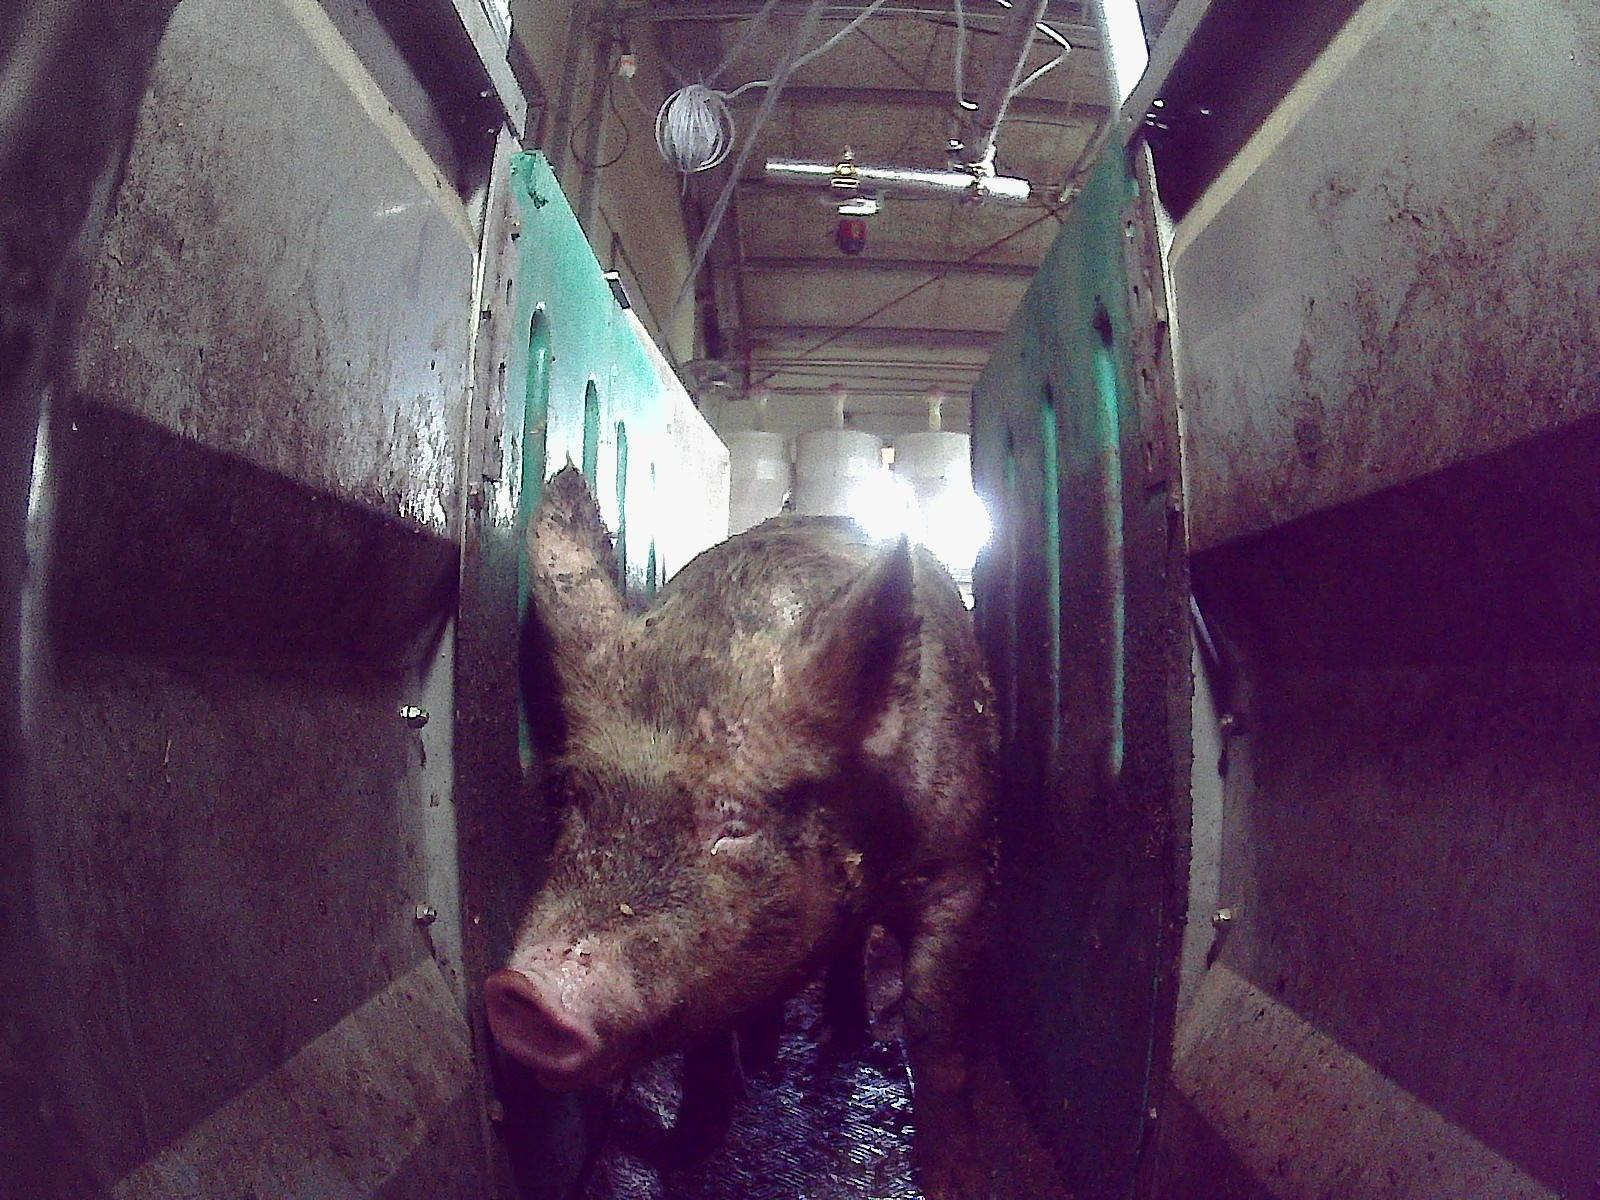Face: (480, 601, 863, 1095)
